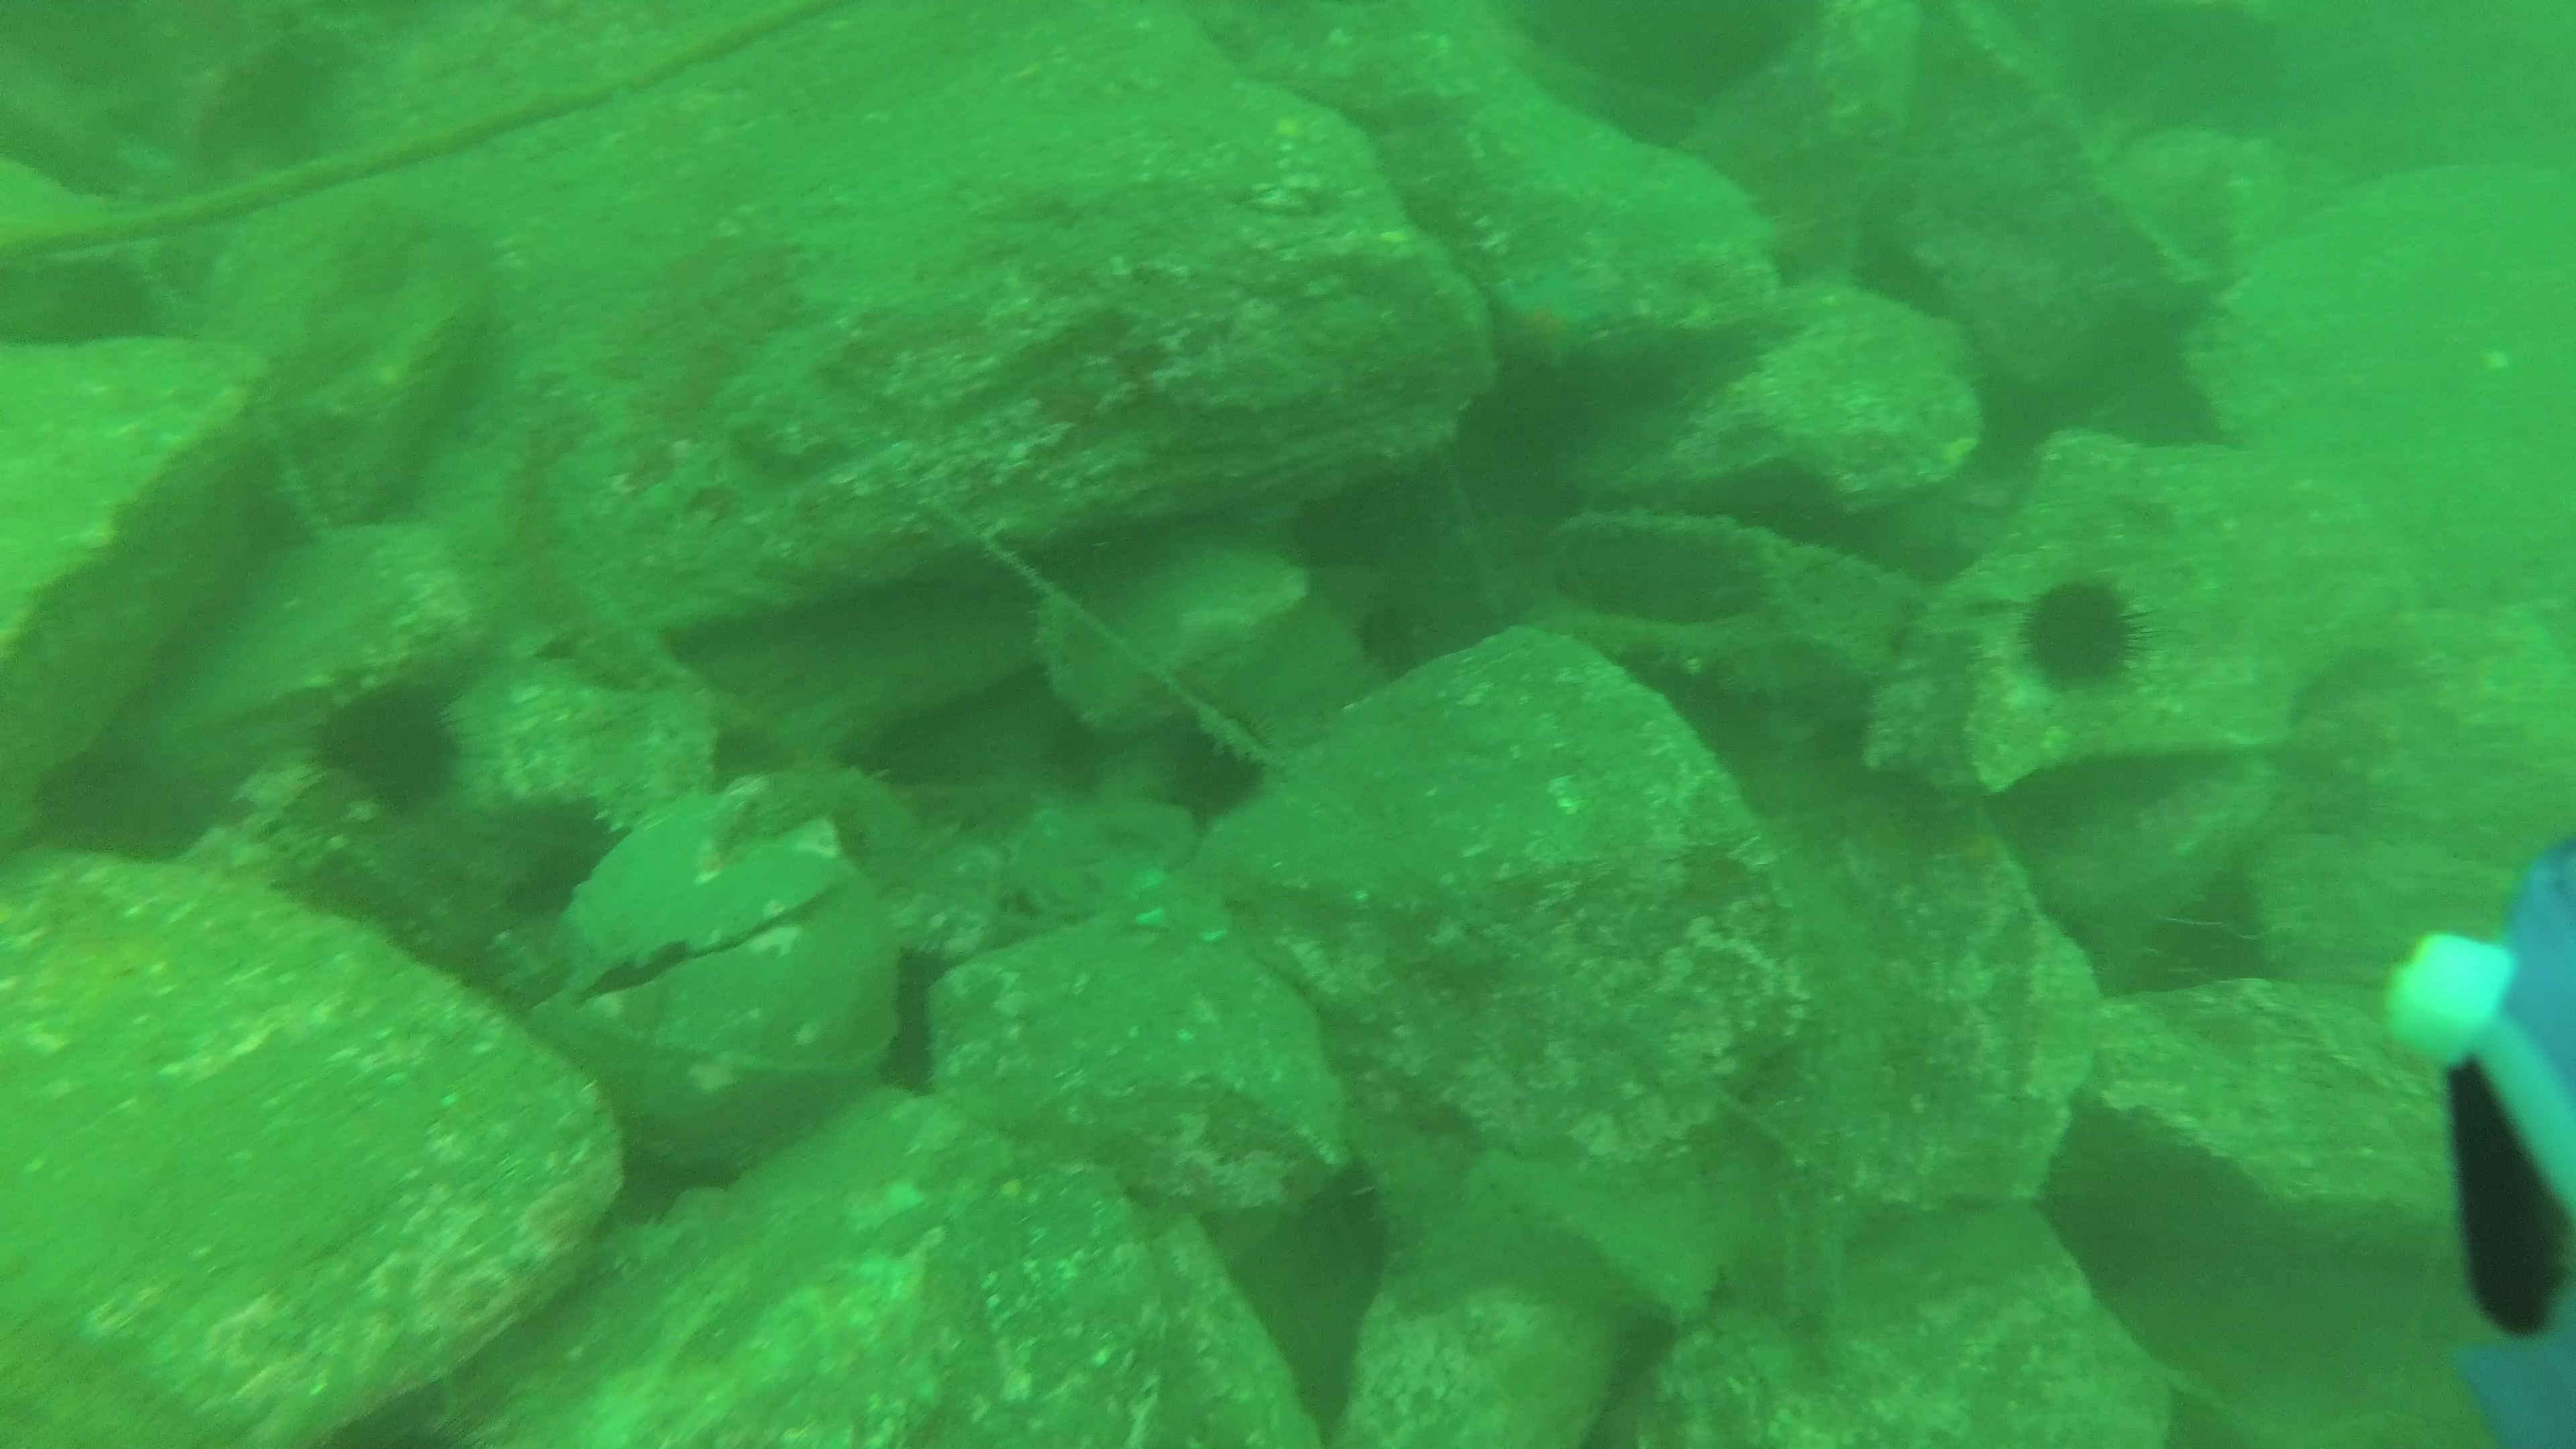echinus: (297, 671, 467, 816), (2006, 571, 2157, 702)
starfish: (1486, 267, 1598, 375)
